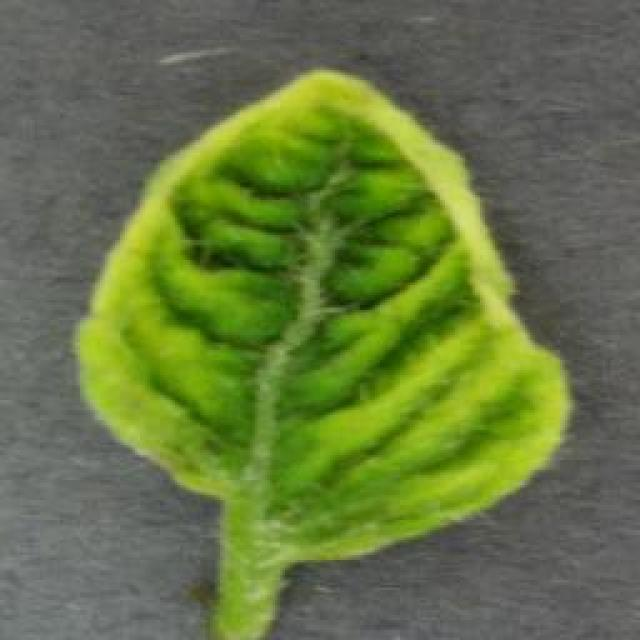Tomato yellow virus leaf: (76, 66, 574, 564)
